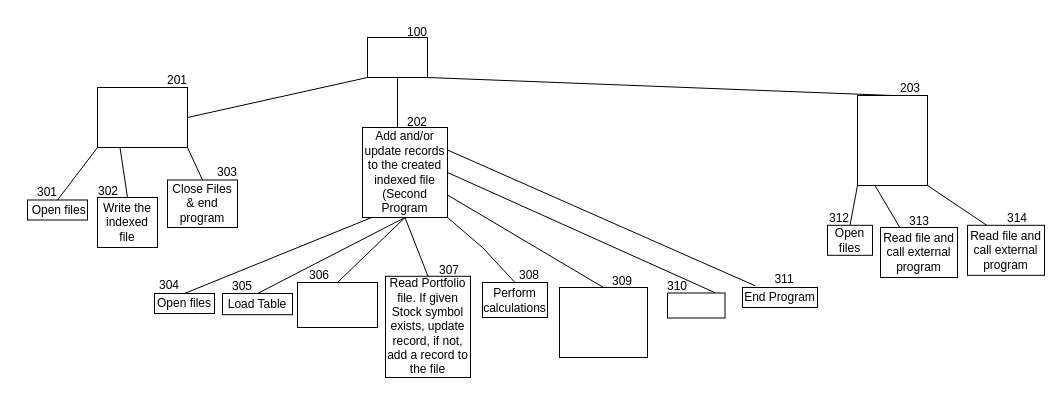
The diagram is 1064 pixels wide and 395 high, and some of its shapes have lost their labels. Here are the shapes that lost their labels. From the top down, the box of each, then its label:
(366, 36, 428, 78): Produce Project 3
(96, 86, 188, 148): Creating the Indexed Sequential File (First Program)
(856, 94, 928, 186): Modify report program from Project 2 (Third Program)
(296, 282, 378, 328): Receive stock symbol from user
(558, 286, 648, 358): Write (Add record) or ReWrite (Update record
(666, 292, 725, 318): Close files
